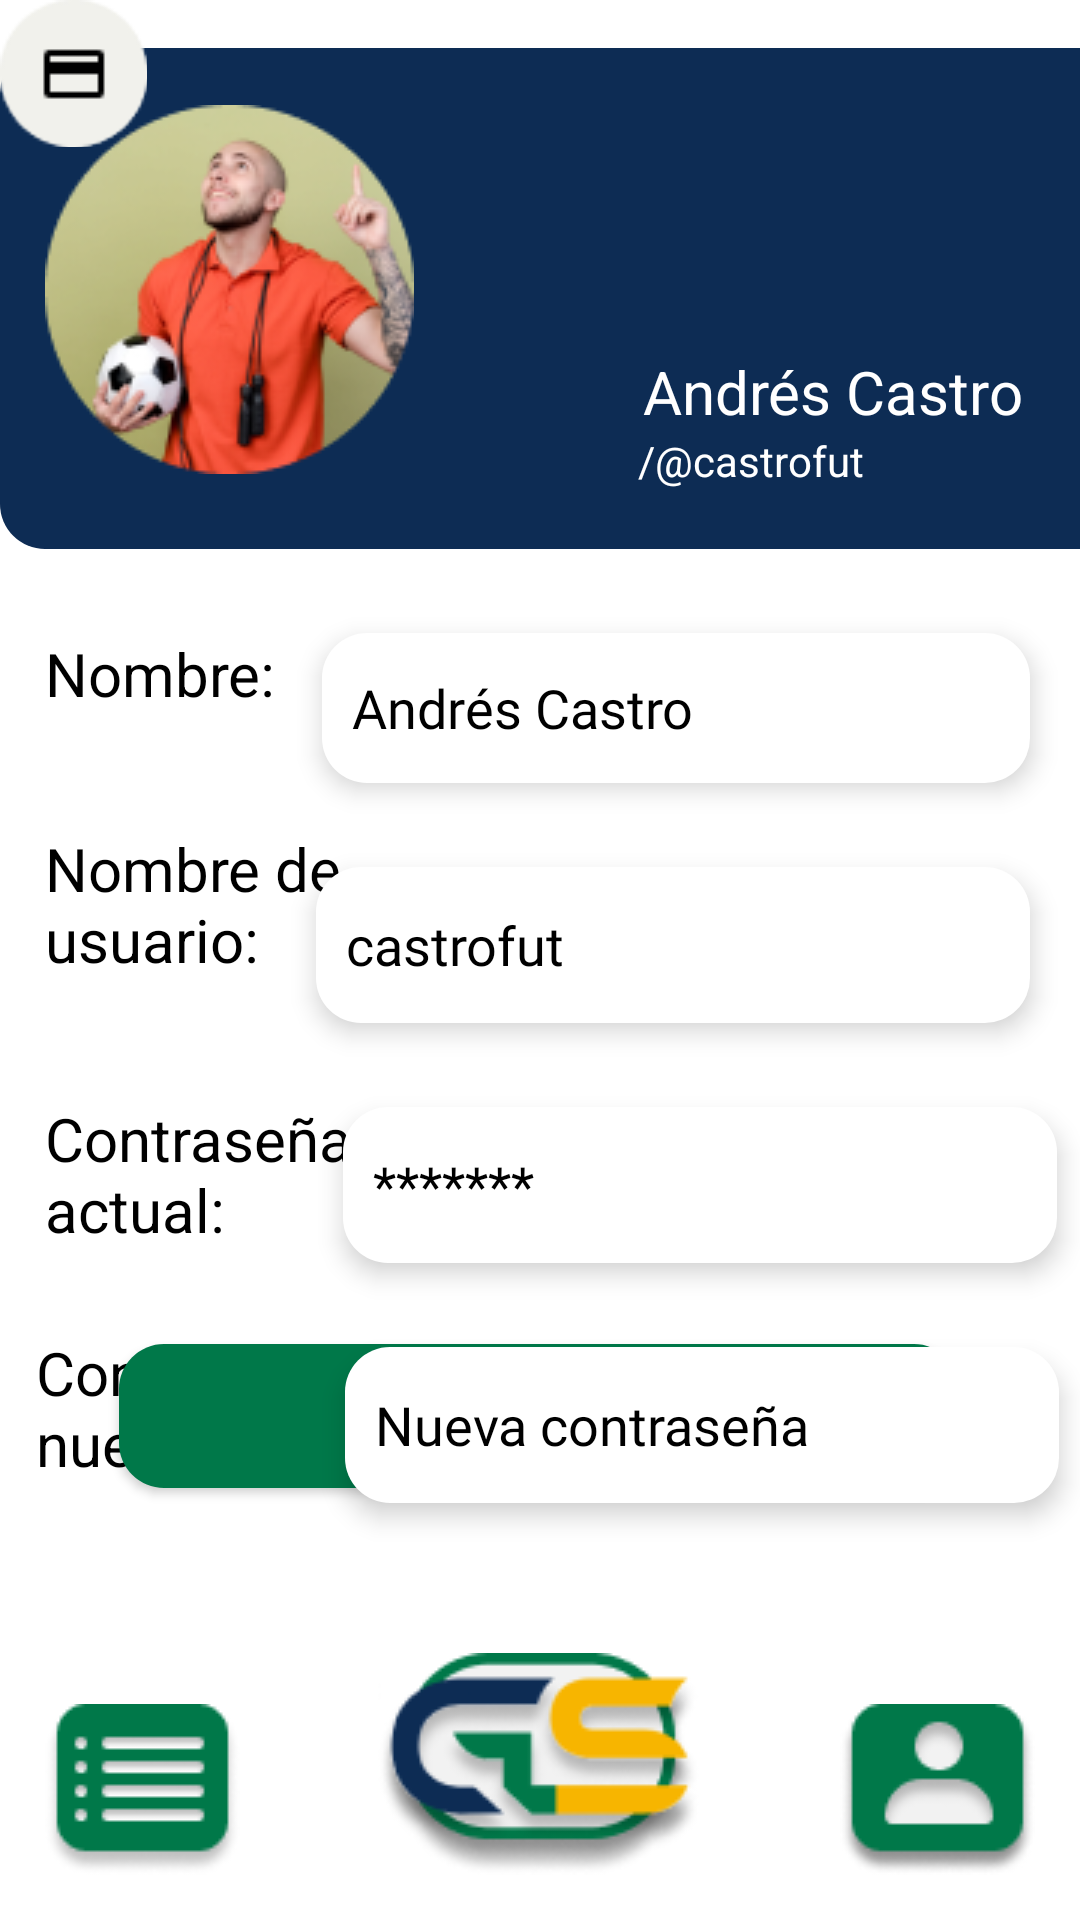

Icon click points for this 1080w x 1920h phone screenshot, format [x,y]:
lista: [142,1784]
perfil: [937,1786]
